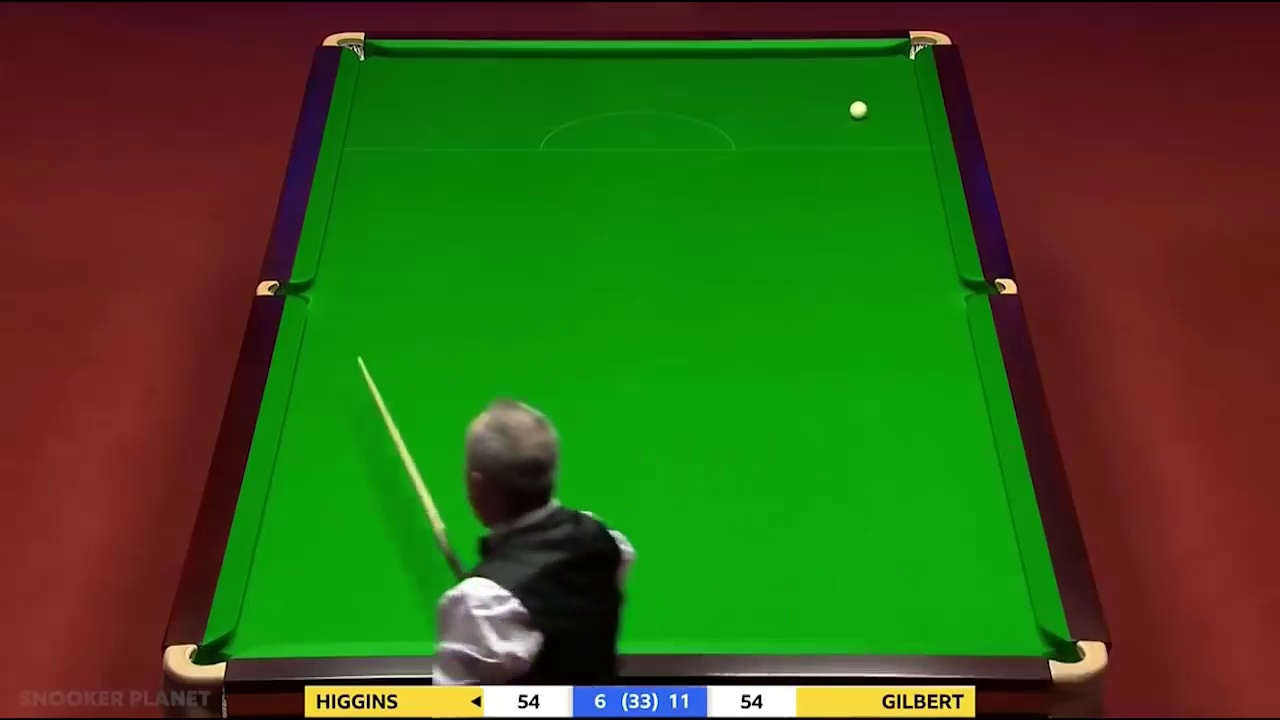ball: (849, 101, 871, 119)
